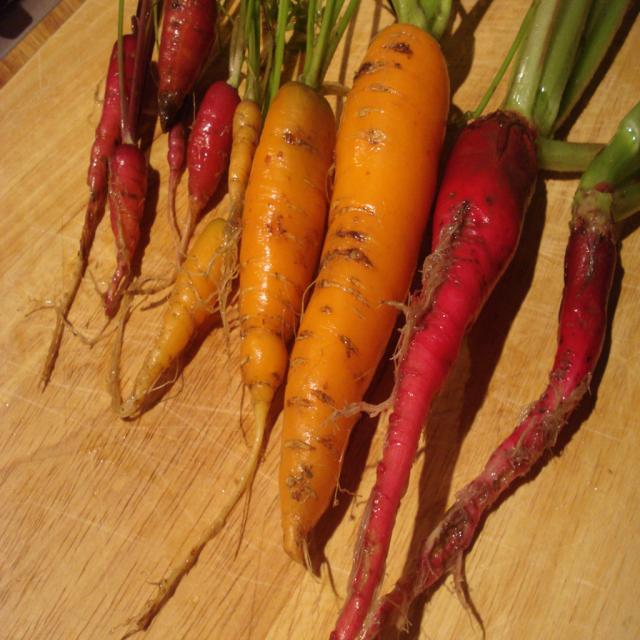carrot: (333, 98, 543, 639), (282, 0, 451, 639), (388, 195, 626, 640), (238, 74, 338, 464), (116, 217, 245, 398), (86, 28, 150, 192), (156, 0, 230, 140), (103, 139, 154, 306), (185, 78, 246, 211), (212, 90, 259, 198), (164, 128, 188, 176)
